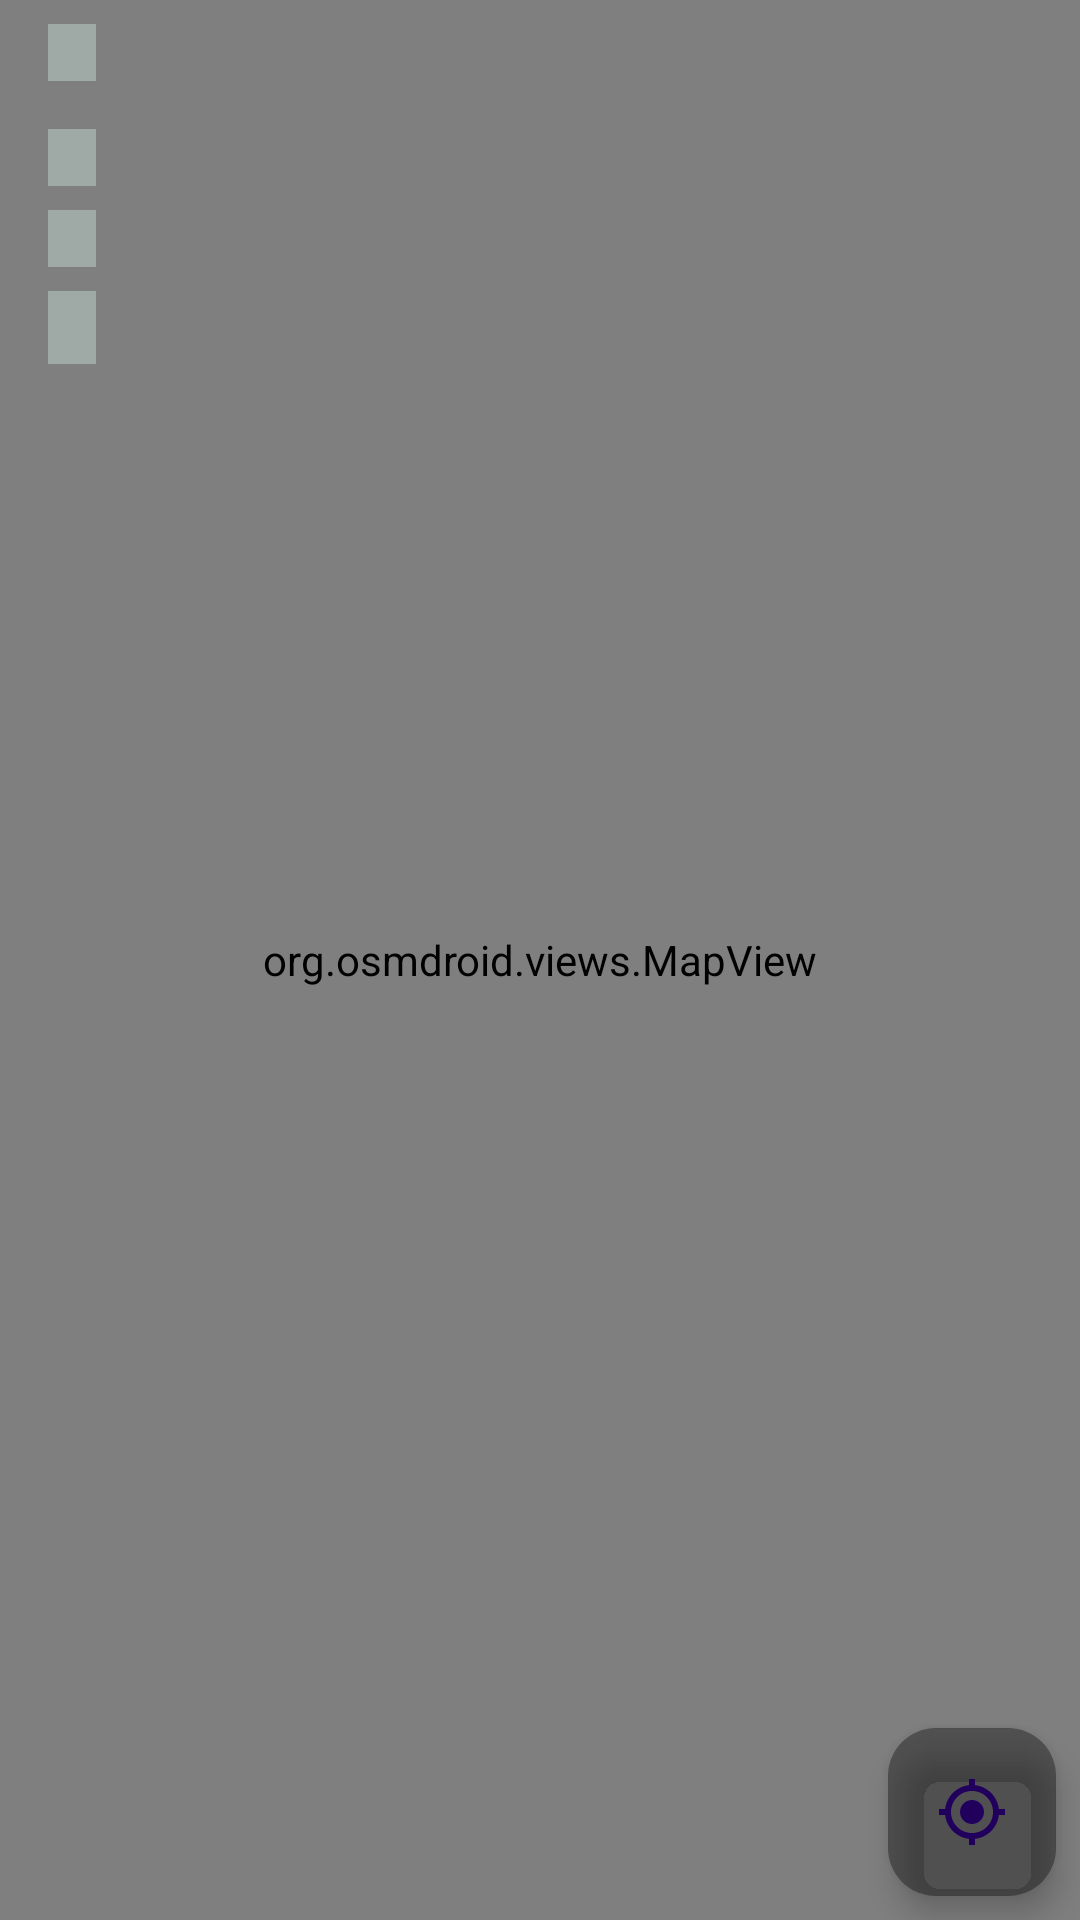

Screen size 1080×1920. Icon name, then its box in pixels as {"left": x1, "top": y1, "right": x2, "bottom": y2}:
center to location: {"left": 888, "top": 1728, "right": 1056, "bottom": 1896}
